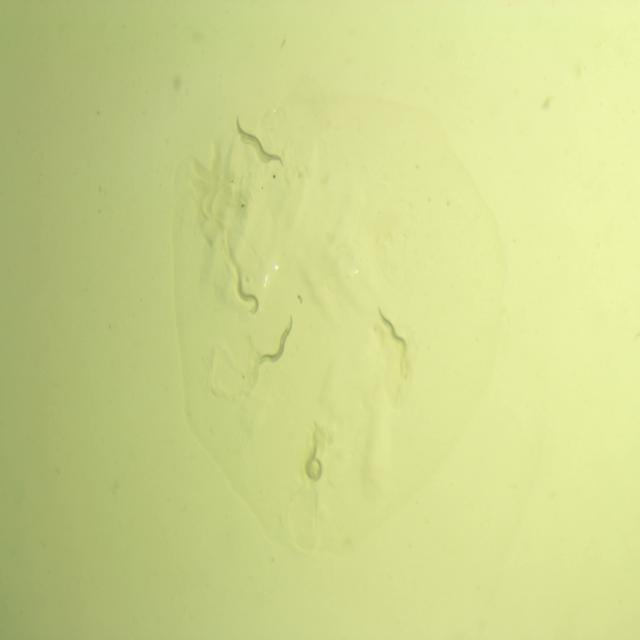worm: (232, 110, 282, 165), (255, 310, 297, 374), (375, 303, 412, 359), (238, 130, 286, 172), (230, 264, 262, 316), (301, 426, 324, 489)
